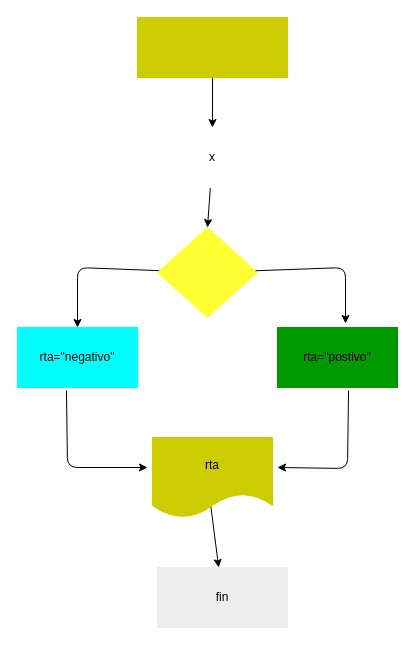
Some shapes in this 415 by 645 pixel diagram are drawn without their labels. Each missing label, with the centre of its shape:
Inicio: point 212,47
x>0: point 207,272
